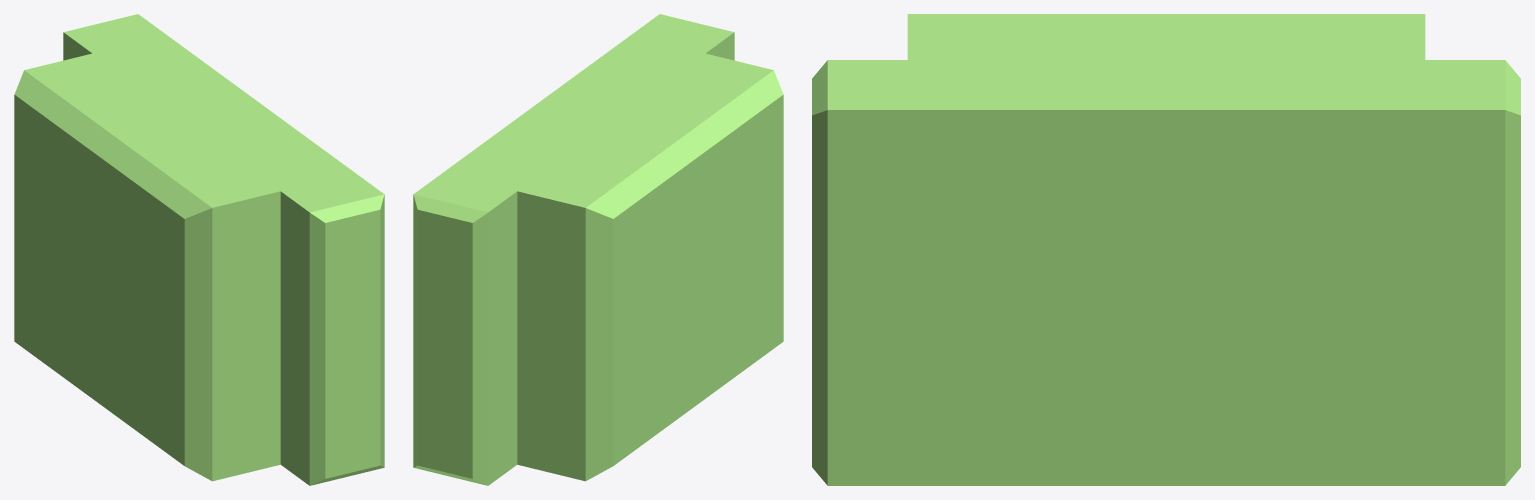
The model's file is Ev_company_exit_exitLight.fbx.
The picture shows the model from 3 angles, left to right: view 1: azimuth 30°, elevation 25°; view 2: azimuth 150°, elevation 25°; view 3: azimuth 270°, elevation 25°; orthographic projection. The views are drawn at different scales.
Visible parts, largest first — view 1: Ev_company_exit_exitLight; view 2: Ev_company_exit_exitLight; view 3: Ev_company_exit_exitLight.
Part boxes in pixels (x1,y1,x2,y2): Ev_company_exit_exitLight: [14, 14, 384, 485]; Ev_company_exit_exitLight: [413, 14, 783, 485]; Ev_company_exit_exitLight: [812, 14, 1520, 485].
Size of the model in its own units: 14.58 by 23.54 by 40.22.
